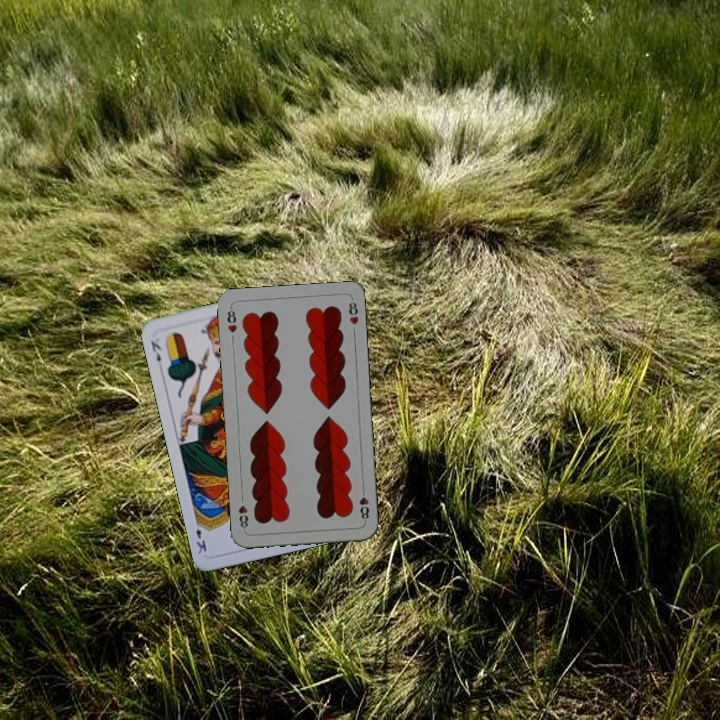EK: (146, 336, 164, 365)
H8: (356, 484, 371, 525), (223, 303, 239, 335)
